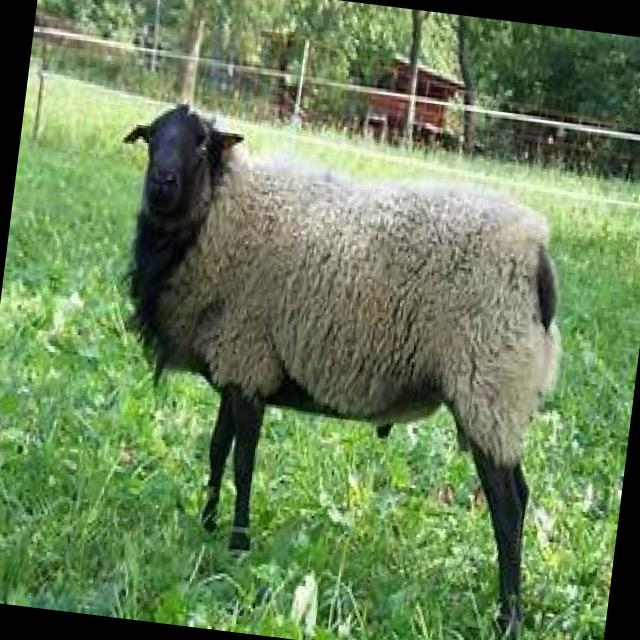sheep: (67, 92, 588, 640)
